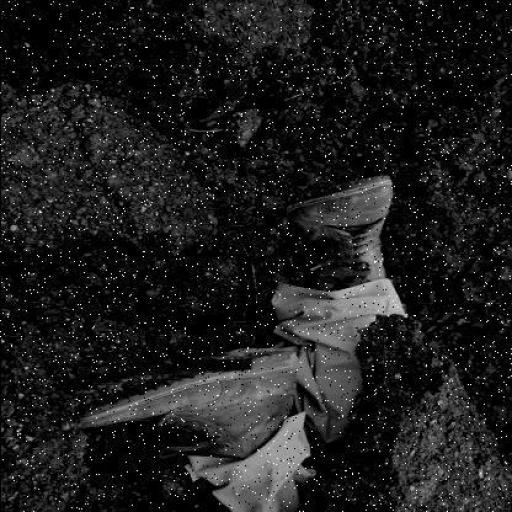safety_shoe: (72, 352, 294, 457), (278, 174, 399, 291)
